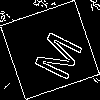M: (25, 25, 84, 83)
